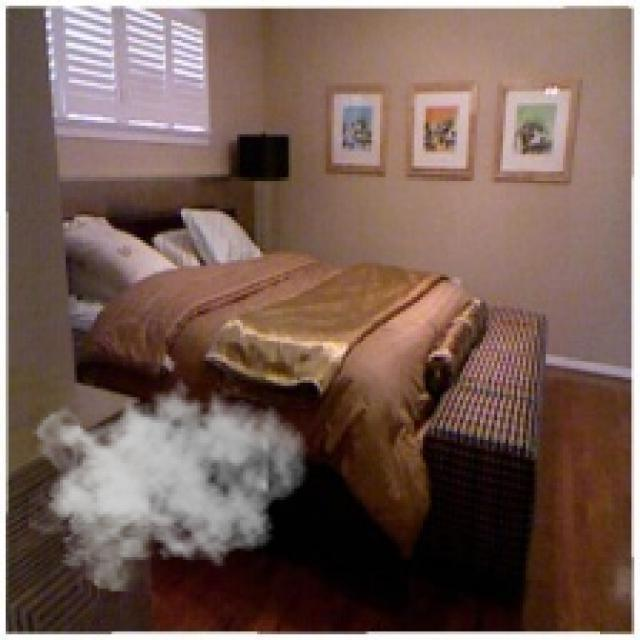Smoke: (29, 368, 308, 592)
